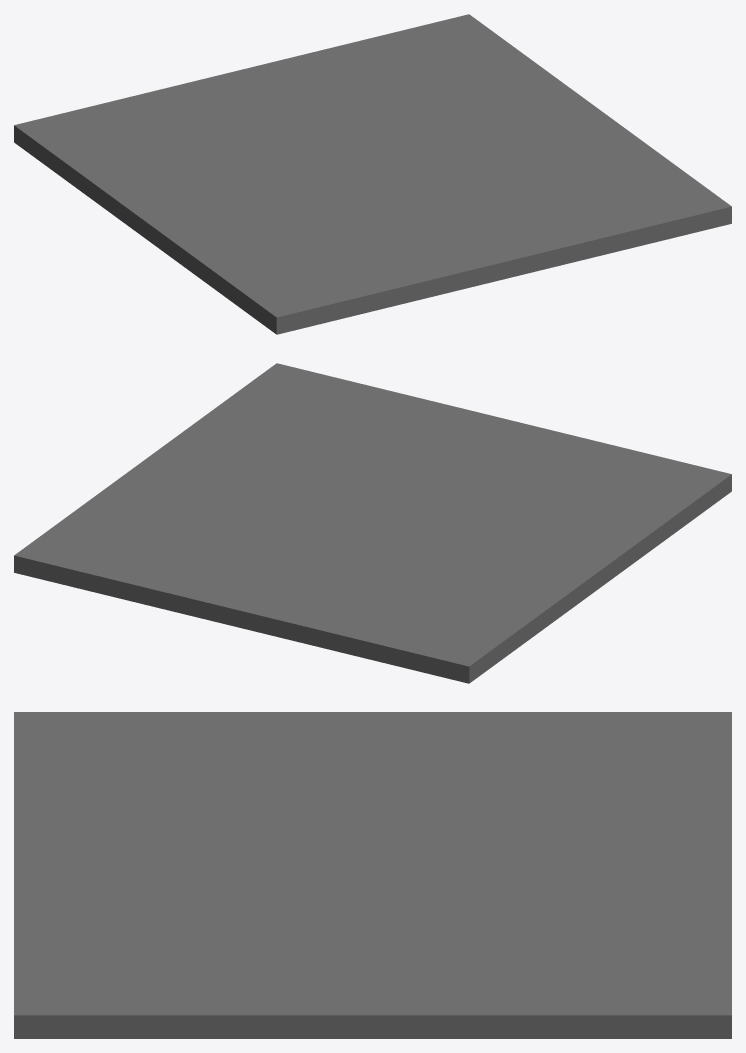
File: CeilingBroken1.fbx
3 renders of one model, top to bottom at view 1: azimuth 30°, elevation 25°; view 2: azimuth 150°, elevation 25°; view 3: azimuth 270°, elevation 25°, orthographic. The views are drawn at different scales.
Visible parts, largest first — view 1: CeilingBroken.012, CeilingBroken.010, CeilingBroken.011, CeilingBroken.009, CeilingBroken.013; view 2: CeilingBroken.012, CeilingBroken.010, CeilingBroken.013, CeilingBroken.009, CeilingBroken.011; view 3: CeilingBroken.012, CeilingBroken.010, CeilingBroken.011, CeilingBroken.009, CeilingBroken.013.
Boxes of the visible parts, x1,y1,x2,y2 form: CeilingBroken.012: (47, 109, 427, 334); CeilingBroken.010: (322, 75, 591, 297); CeilingBroken.011: (500, 104, 731, 277); CeilingBroken.009: (290, 14, 552, 108); CeilingBroken.013: (14, 58, 321, 169); CeilingBroken.012: (283, 437, 731, 655); CeilingBroken.010: (98, 420, 580, 561); CeilingBroken.013: (193, 562, 506, 683); CeilingBroken.009: (14, 494, 281, 616); CeilingBroken.011: (137, 363, 508, 465); CeilingBroken.012: (14, 712, 641, 876); CeilingBroken.010: (14, 812, 566, 1038); CeilingBroken.011: (14, 861, 396, 1038); CeilingBroken.009: (490, 877, 731, 1038); CeilingBroken.013: (566, 712, 731, 895).
Size of the model in its own units: 415 by 15 by 415.
